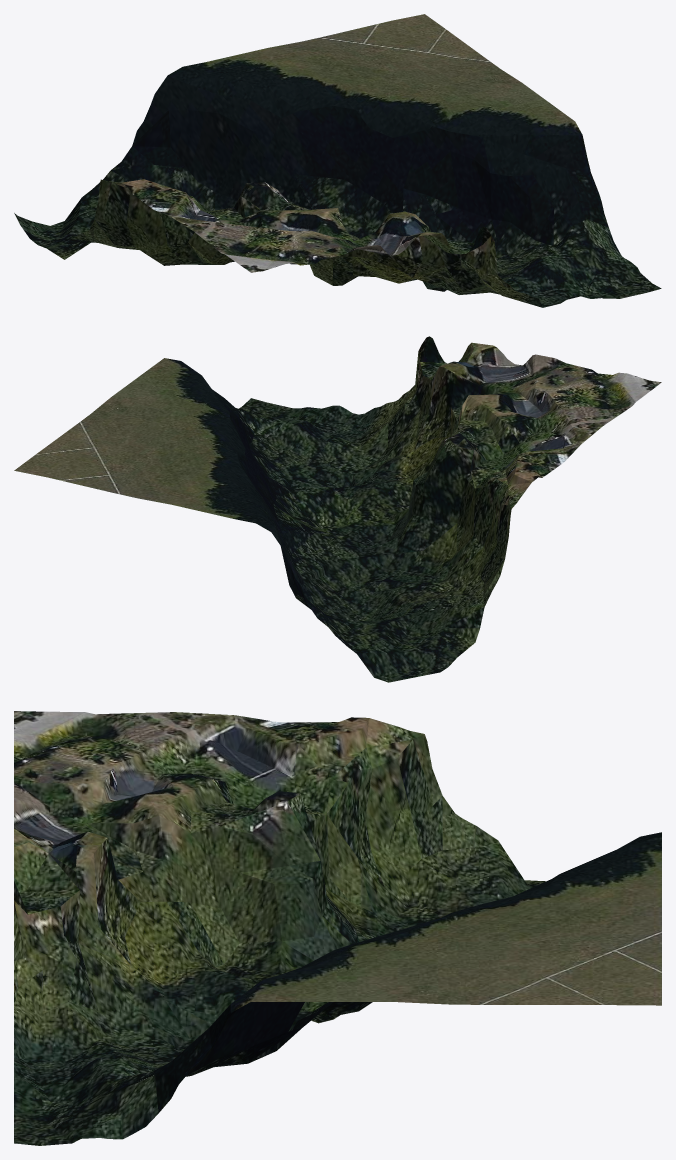
Rendered from map_15_8186_13787.dae.
The picture shows the model from 3 angles, top to bottom: view 1: azimuth 30°, elevation 25°; view 2: azimuth 150°, elevation 25°; view 3: azimuth 270°, elevation 25°; orthographic projection. The views are drawn at different scales.
Parts seen in each view (by area): view 1: Ter0; view 2: Ter0; view 3: Ter0.
Part boxes in pixels (left/top/right/bottom): Ter0: left=14, top=14, right=661, bottom=307; Ter0: left=14, top=336, right=661, bottom=682; Ter0: left=14, top=711, right=661, bottom=1145.
Size of the model in its own units: 63.88 by 63.88 by 20.22.
Materials: 3 (3 with a texture image).
